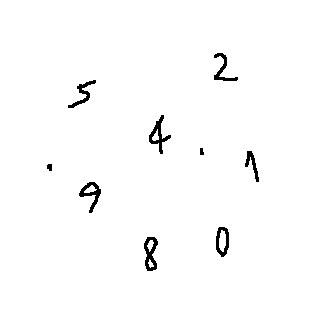.: (192, 143, 218, 161), (40, 158, 55, 177)
0: (212, 220, 237, 265)
1: (241, 146, 267, 193)
2: (210, 53, 244, 85)
4: (141, 107, 178, 162)
5: (57, 74, 111, 116)
8: (140, 229, 165, 280)
9: (73, 173, 106, 226)
